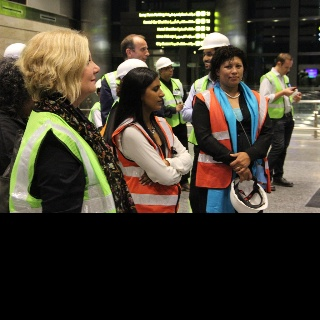without_mask: (80, 48, 100, 91), (143, 76, 164, 110), (219, 57, 244, 84), (132, 38, 149, 62), (22, 94, 34, 116), (279, 60, 293, 76), (203, 48, 213, 69), (162, 64, 173, 77)
